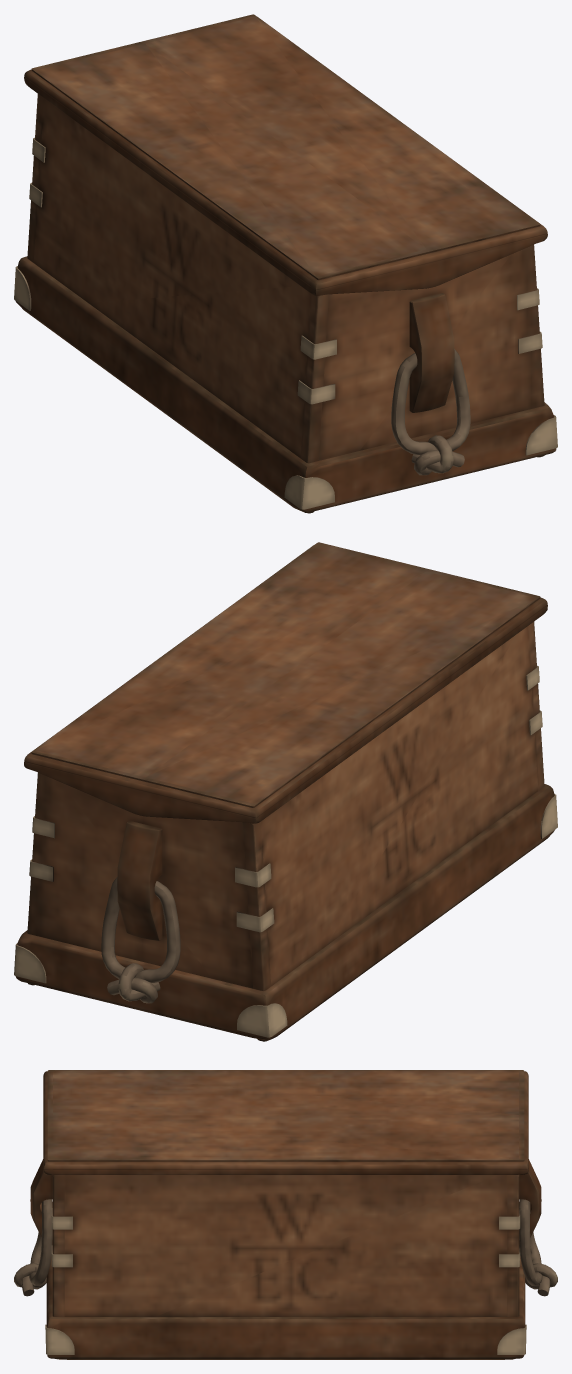
The model's file is crate_wood2.glb.
3 views of the same model, one above another, from view 1: azimuth 30°, elevation 25°; view 2: azimuth 150°, elevation 25°; view 3: azimuth 270°, elevation 25° (orthographic). The views are drawn at different scales.
Visible parts, largest first — view 1: mesh; view 2: mesh; view 3: mesh.
Part boxes in pixels (x1,y1,x2,y2): mesh: (14,14,557,513); mesh: (14,542,557,1041); mesh: (14,1070,557,1359).
Size of the model in its own units: 0.5291 by 0.4639 by 1.17.
1 material, 1 textured.
